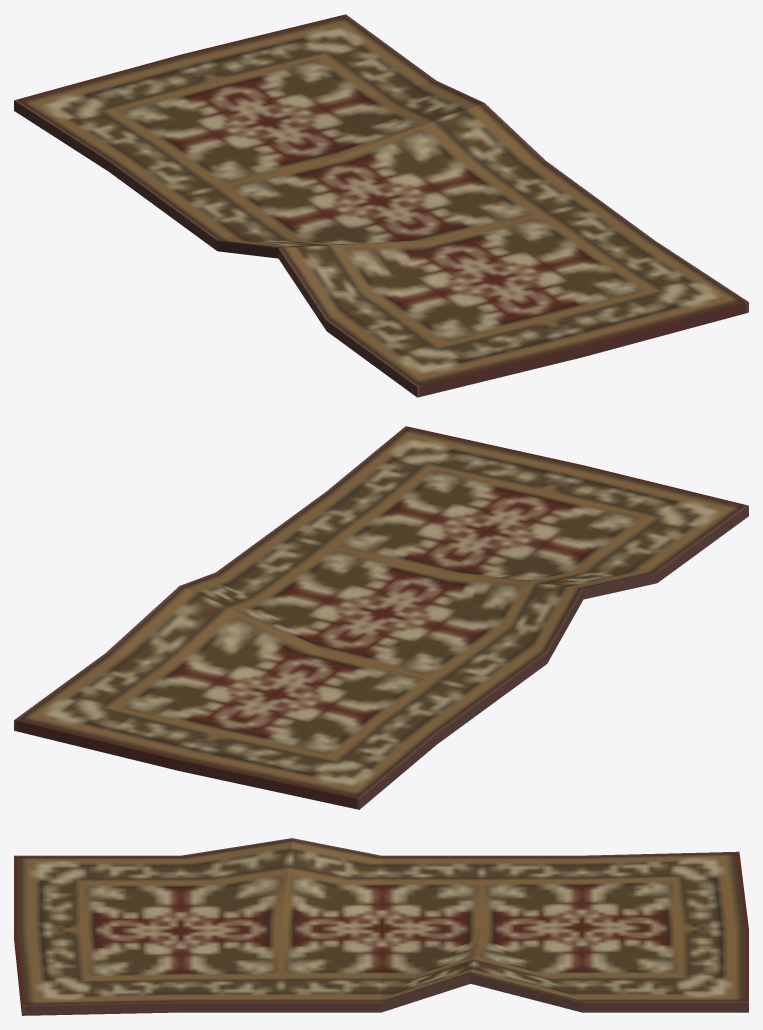
File: SM_Prop_Rug_21.fbx
The picture shows the model from 3 angles, top to bottom: view 1: azimuth 30°, elevation 25°; view 2: azimuth 150°, elevation 25°; view 3: azimuth 270°, elevation 25°; orthographic projection. The views are drawn at different scales.
Parts seen in each view (by area): view 1: SM_Prop_Rug_21; view 2: SM_Prop_Rug_21; view 3: SM_Prop_Rug_21.
Part boxes in pixels (<box>): SM_Prop_Rug_21: <box>14,14,748,397</box>; SM_Prop_Rug_21: <box>14,426,748,809</box>; SM_Prop_Rug_21: <box>14,838,748,1015</box>.
Bounding box in the file's own units: 140 × 13.87 × 282.
